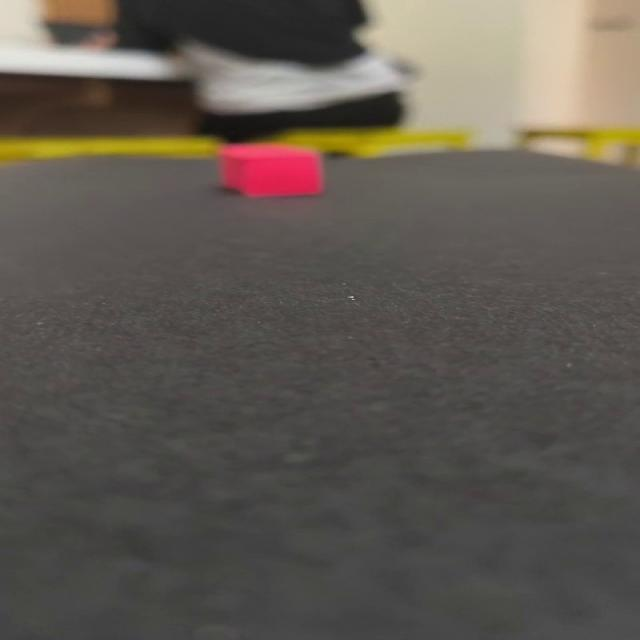red block: (216, 142, 324, 197)
